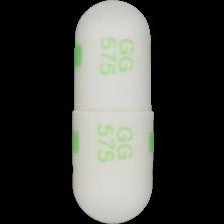0781-2823: (0, 0, 224, 224)
